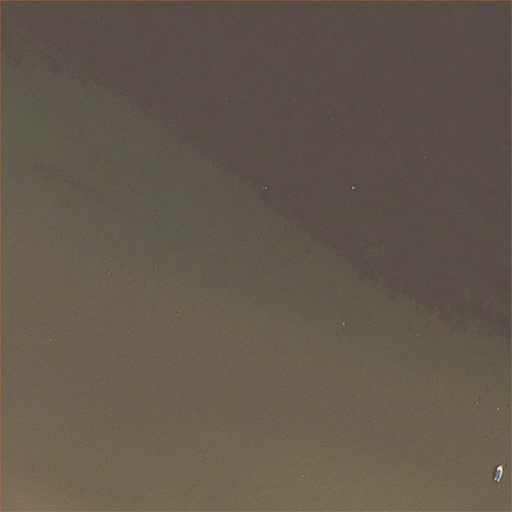ship: (491, 463, 504, 485)
